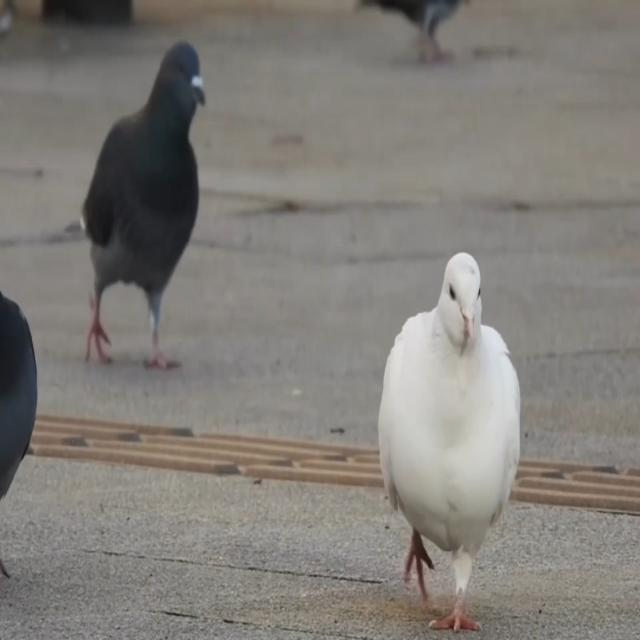bird: (371, 244, 545, 640), (65, 21, 215, 388), (0, 274, 70, 605)
